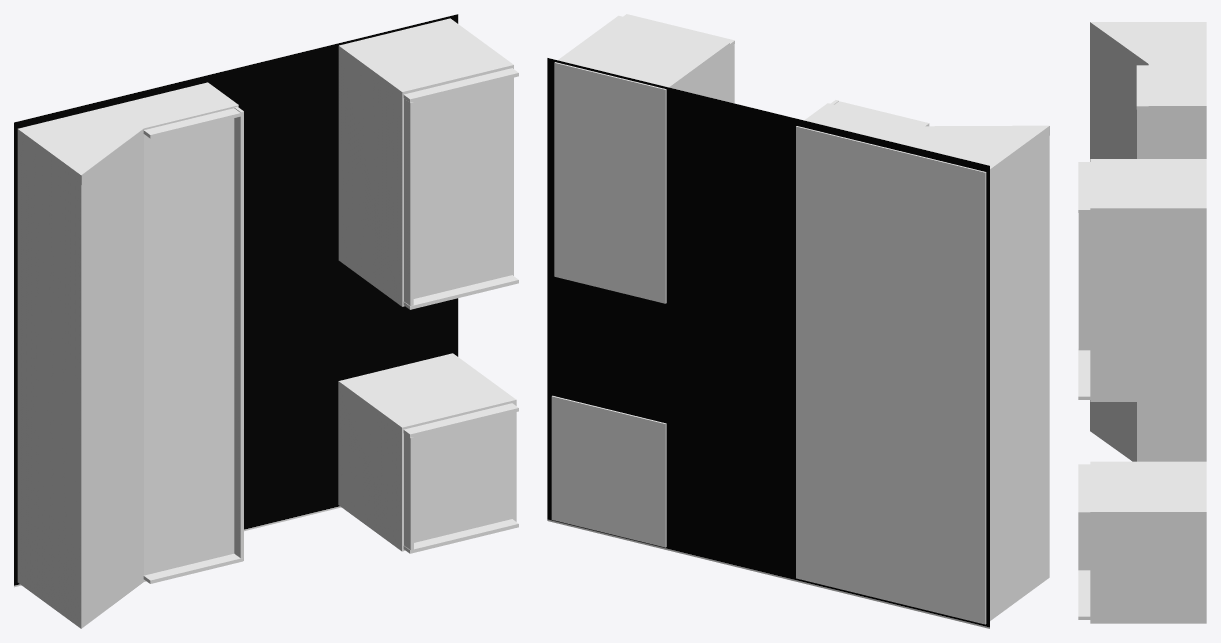
File: map.obj
The picture shows the model from 3 angles, left to right: view 1: azimuth 30°, elevation 25°; view 2: azimuth 150°, elevation 25°; view 3: azimuth 270°, elevation 25°; orthographic projection. The views are drawn at different scales.
Parts seen in each view (by area): view 1: Plane; view 2: Plane; view 3: Plane.
Boxes of the visible parts, left/top/right/bottom form: Plane: left=14, top=14, right=518, bottom=628; Plane: left=547, top=14, right=1049, bottom=628; Plane: left=1078, top=22, right=1206, bottom=623.
Bounding box in the file's own units: 7.95 × 7.95 × 2.2.
1 material, 1 textured.
